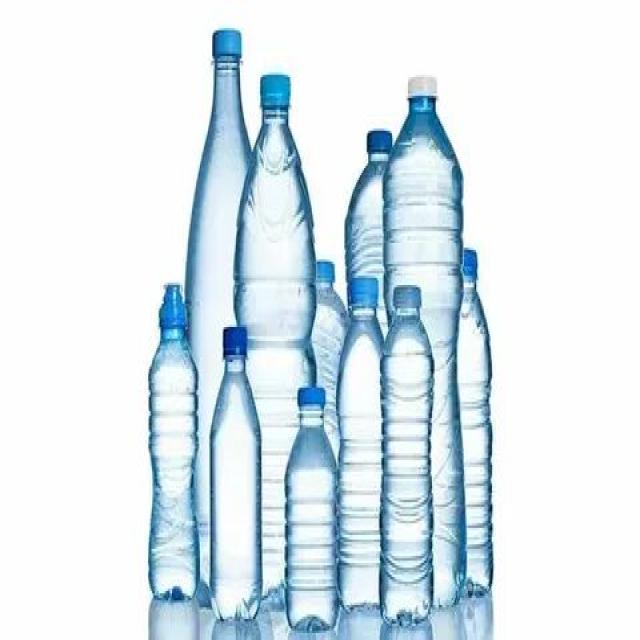blue: (384, 97, 466, 606), (232, 105, 318, 589), (185, 52, 248, 327), (379, 310, 433, 626), (209, 354, 263, 626), (336, 304, 383, 610), (149, 322, 199, 606), (285, 405, 337, 634), (458, 277, 492, 601)
